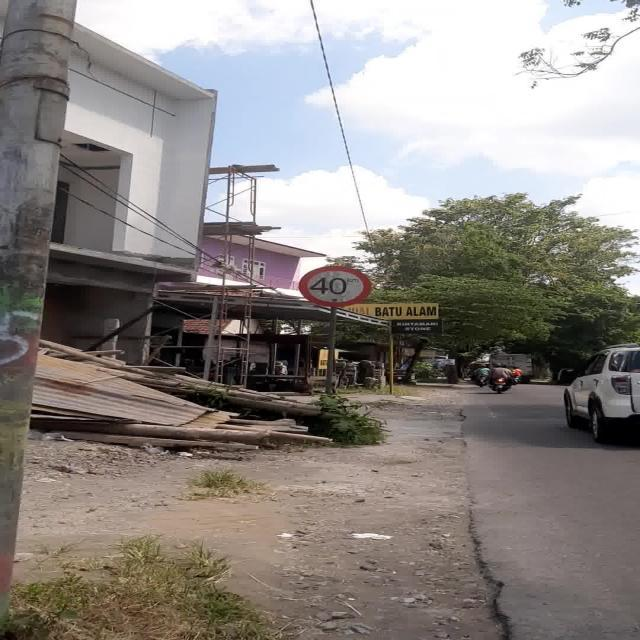Kecepatan Maks. 40 km: (299, 265, 372, 307)
